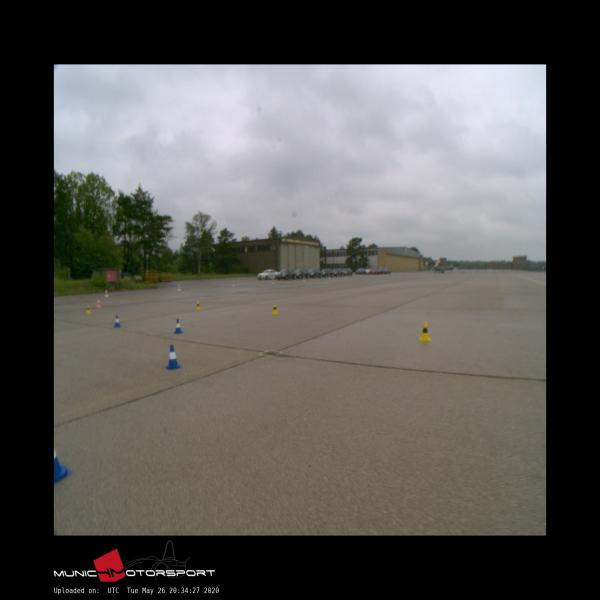blue_cone: (165, 344, 180, 368), (173, 319, 183, 333), (113, 315, 121, 327)
yellow_cone: (419, 322, 430, 340), (272, 304, 278, 314), (195, 301, 201, 310), (86, 305, 91, 313)
